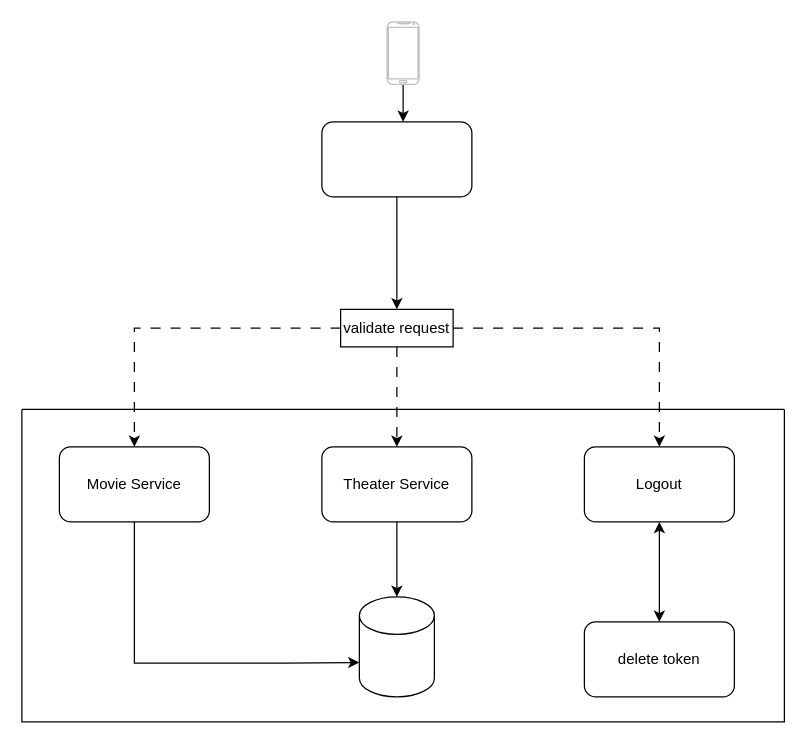
This 806x744 diagram has some shape labels left out. The shapes that lost their labels are listed below. From the top down, each one's centre as x and y in pixels, then its label:
the point at 396,159: Login
the point at 396,646: database
